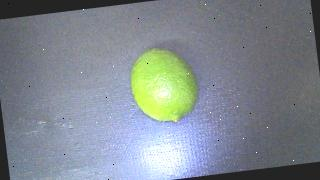EXPORTACION: (127, 43, 201, 126)
